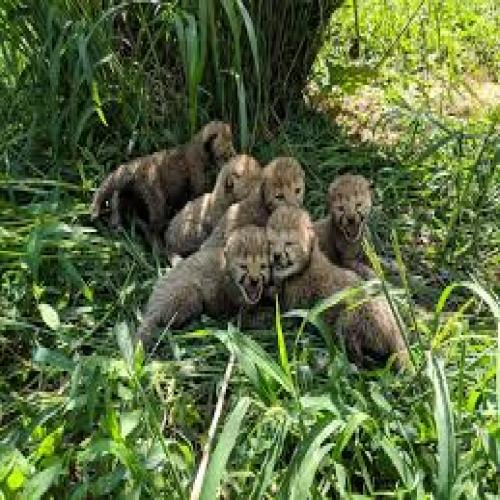cheetah-endangered: (267, 207, 405, 373), (90, 116, 236, 230), (141, 227, 273, 344), (190, 153, 308, 279), (166, 154, 262, 253), (299, 171, 373, 270)
